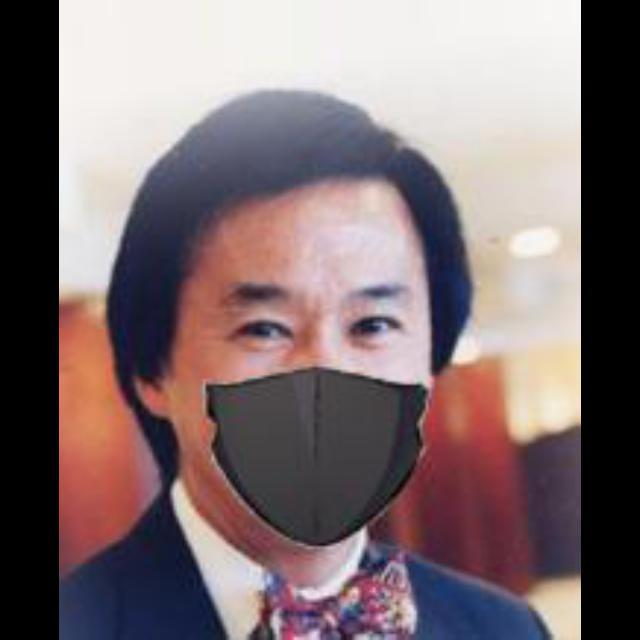suspicion: (105, 114, 527, 586)
